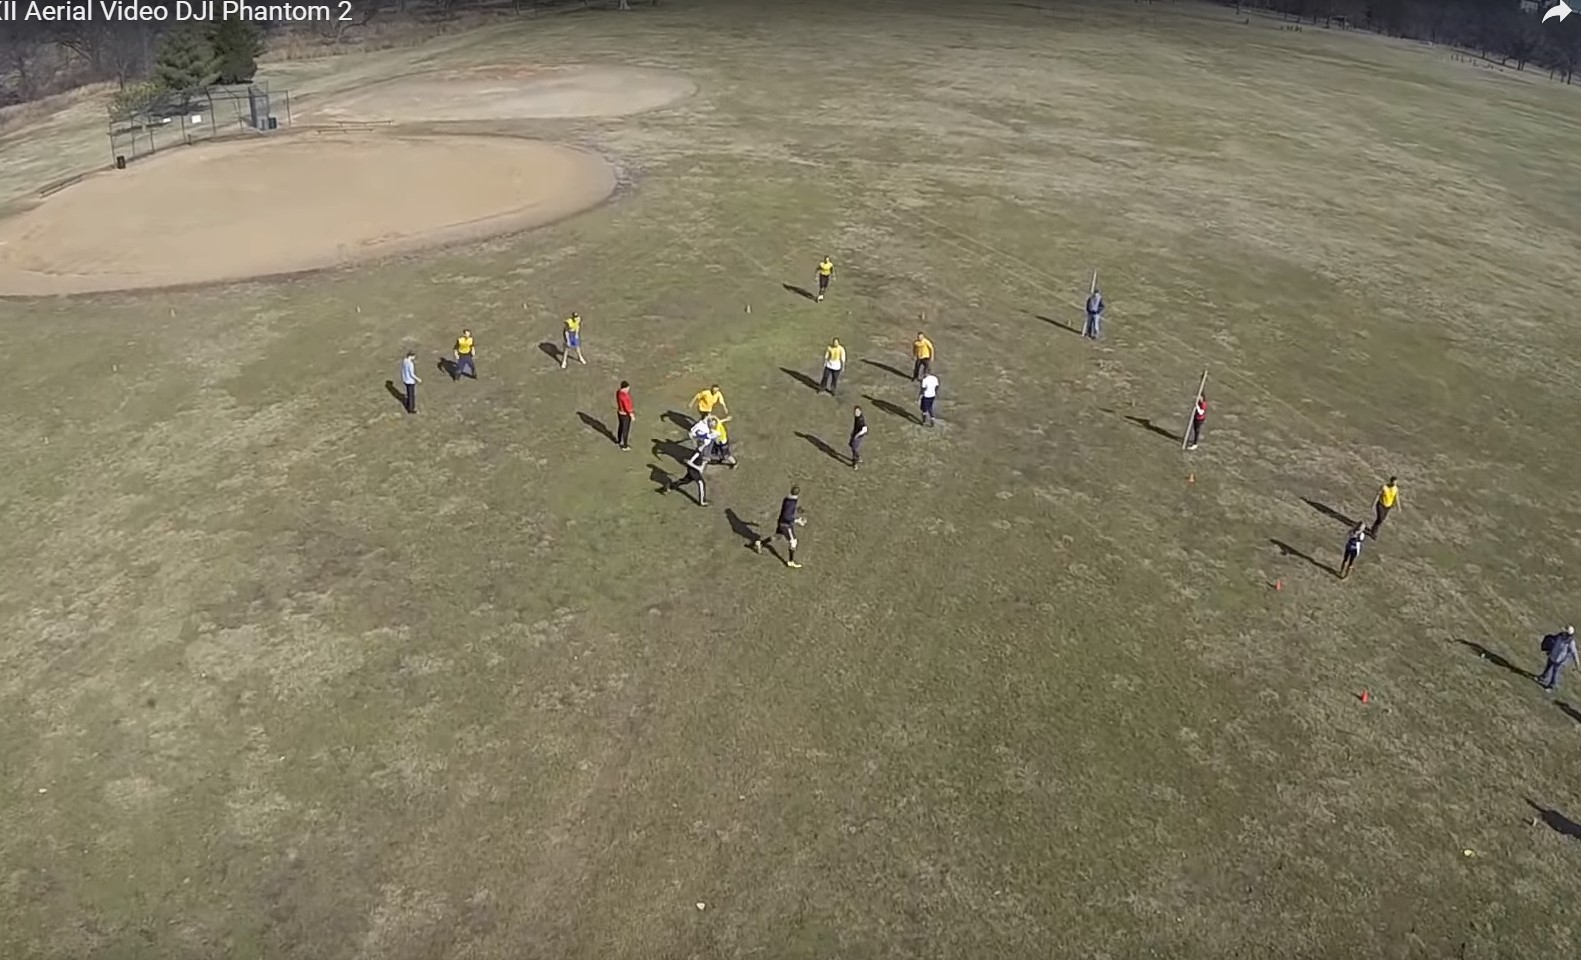insan: (751, 482, 809, 562), (660, 438, 716, 504), (1543, 617, 1576, 692), (1371, 473, 1407, 537), (694, 411, 737, 463), (394, 350, 425, 413), (845, 405, 869, 473), (915, 367, 942, 425), (450, 328, 477, 382), (563, 309, 591, 363), (692, 384, 730, 422), (1343, 515, 1365, 576), (1083, 284, 1107, 335), (615, 378, 632, 451), (912, 325, 935, 375), (814, 253, 836, 305), (1191, 388, 1209, 444)
